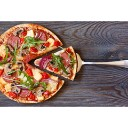pepperonipizza: (1, 24, 76, 105)
